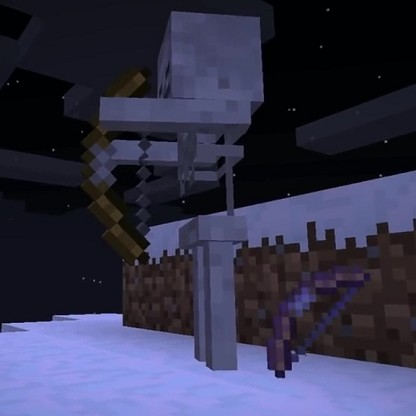skeleton: (105, 9, 269, 372)
